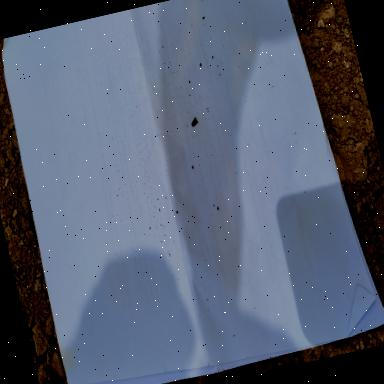pbw: (190, 117, 199, 127)
